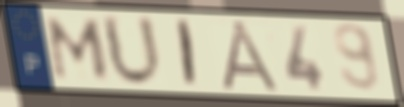4: (284, 23, 327, 93)
9: (334, 21, 384, 99)
A: (218, 19, 285, 94)
I: (176, 17, 199, 90)
M: (45, 15, 112, 82)
U: (98, 12, 166, 90)
